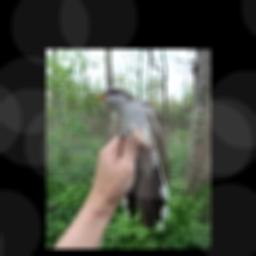Cuckoo: (88, 87, 170, 229)
